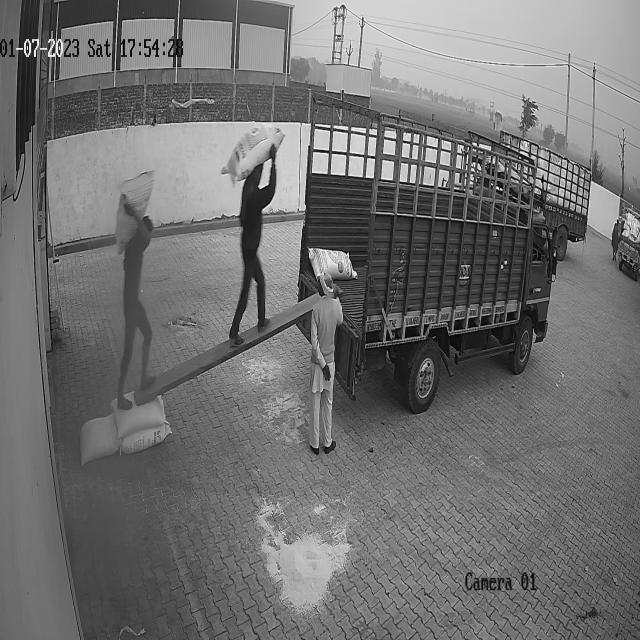sack: (222, 125, 284, 181), (116, 170, 154, 254), (112, 390, 164, 438), (79, 414, 117, 464), (307, 246, 357, 283), (120, 424, 170, 453)
